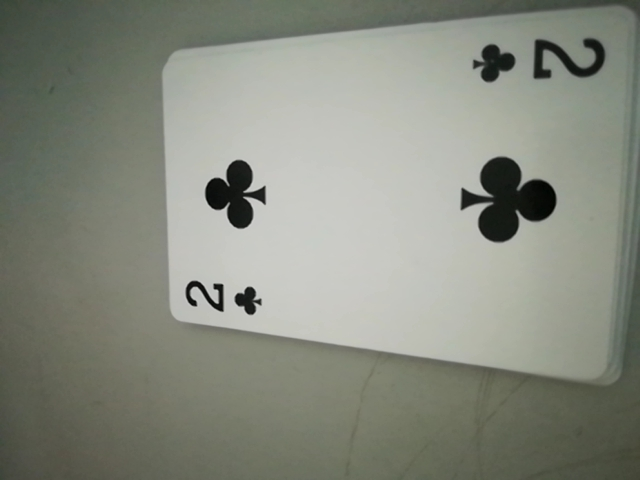mh 2: (471, 28, 605, 94), (177, 270, 269, 326)
